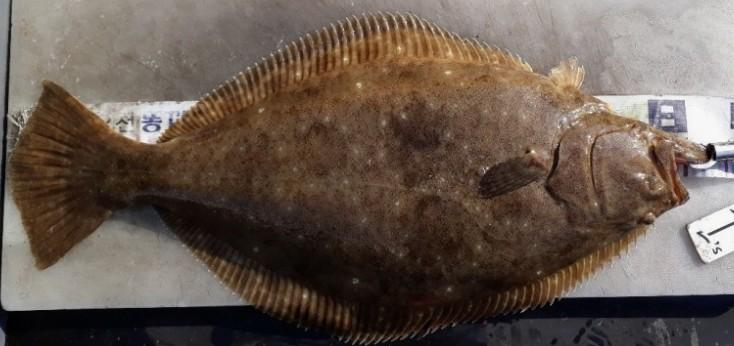fish: (7, 13, 709, 345)
